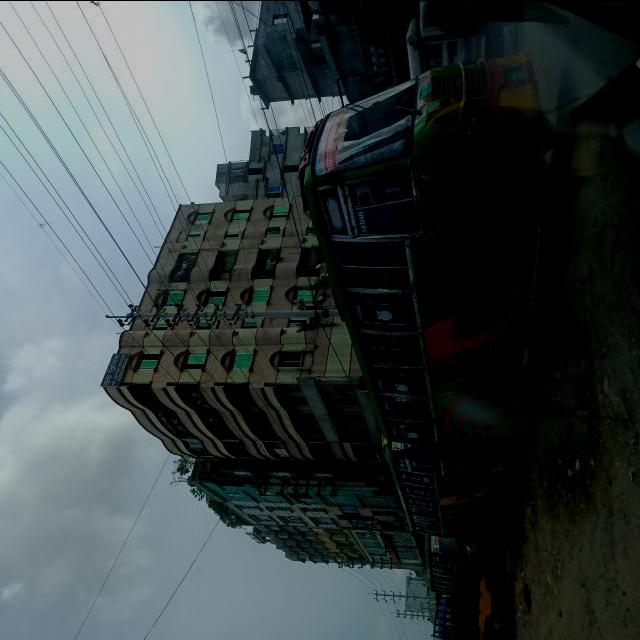bus: (300, 51, 568, 451), (383, 443, 523, 541)
